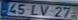2: (54, 5, 62, 18)
4: (8, 2, 16, 14)
5: (17, 3, 25, 14)
7: (63, 6, 72, 18)
L: (30, 4, 38, 15)
V: (40, 5, 50, 17)
